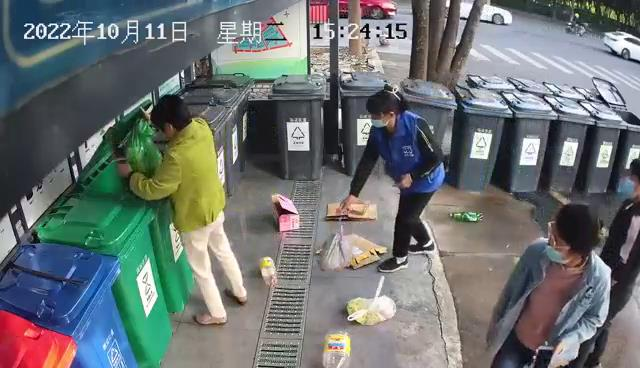garbage-bag: (345, 274, 397, 327), (317, 210, 351, 273)
person: (117, 93, 248, 325)
suliaozhipin: (321, 328, 352, 368), (257, 255, 278, 288), (448, 209, 485, 223)
worker: (485, 201, 613, 368), (338, 82, 447, 271)
zhizhipin: (338, 232, 388, 269), (269, 191, 301, 233), (324, 199, 379, 223)
